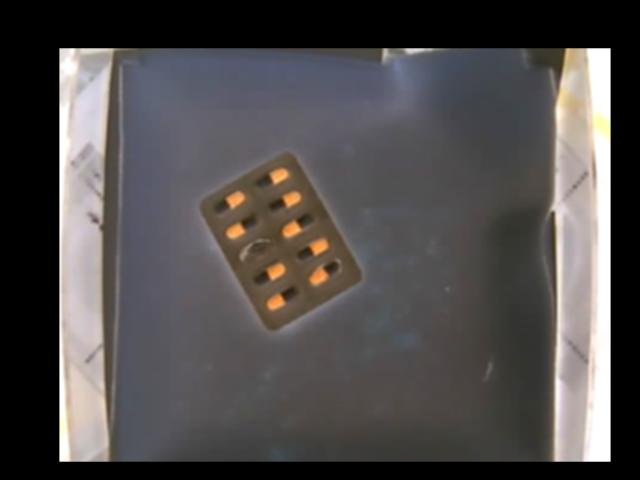Medicine: (196, 148, 362, 331)
